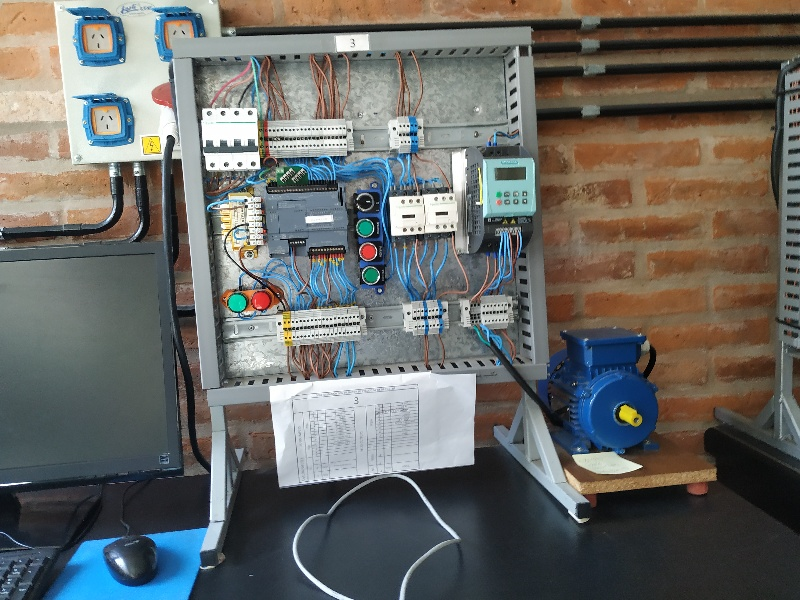Tablero 3: (185, 46, 546, 379)
